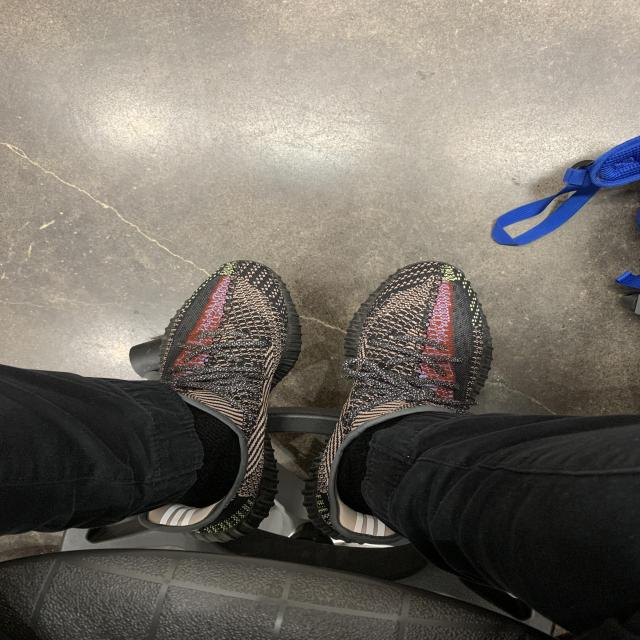shoe: (291, 254, 519, 568), (105, 246, 301, 549)
